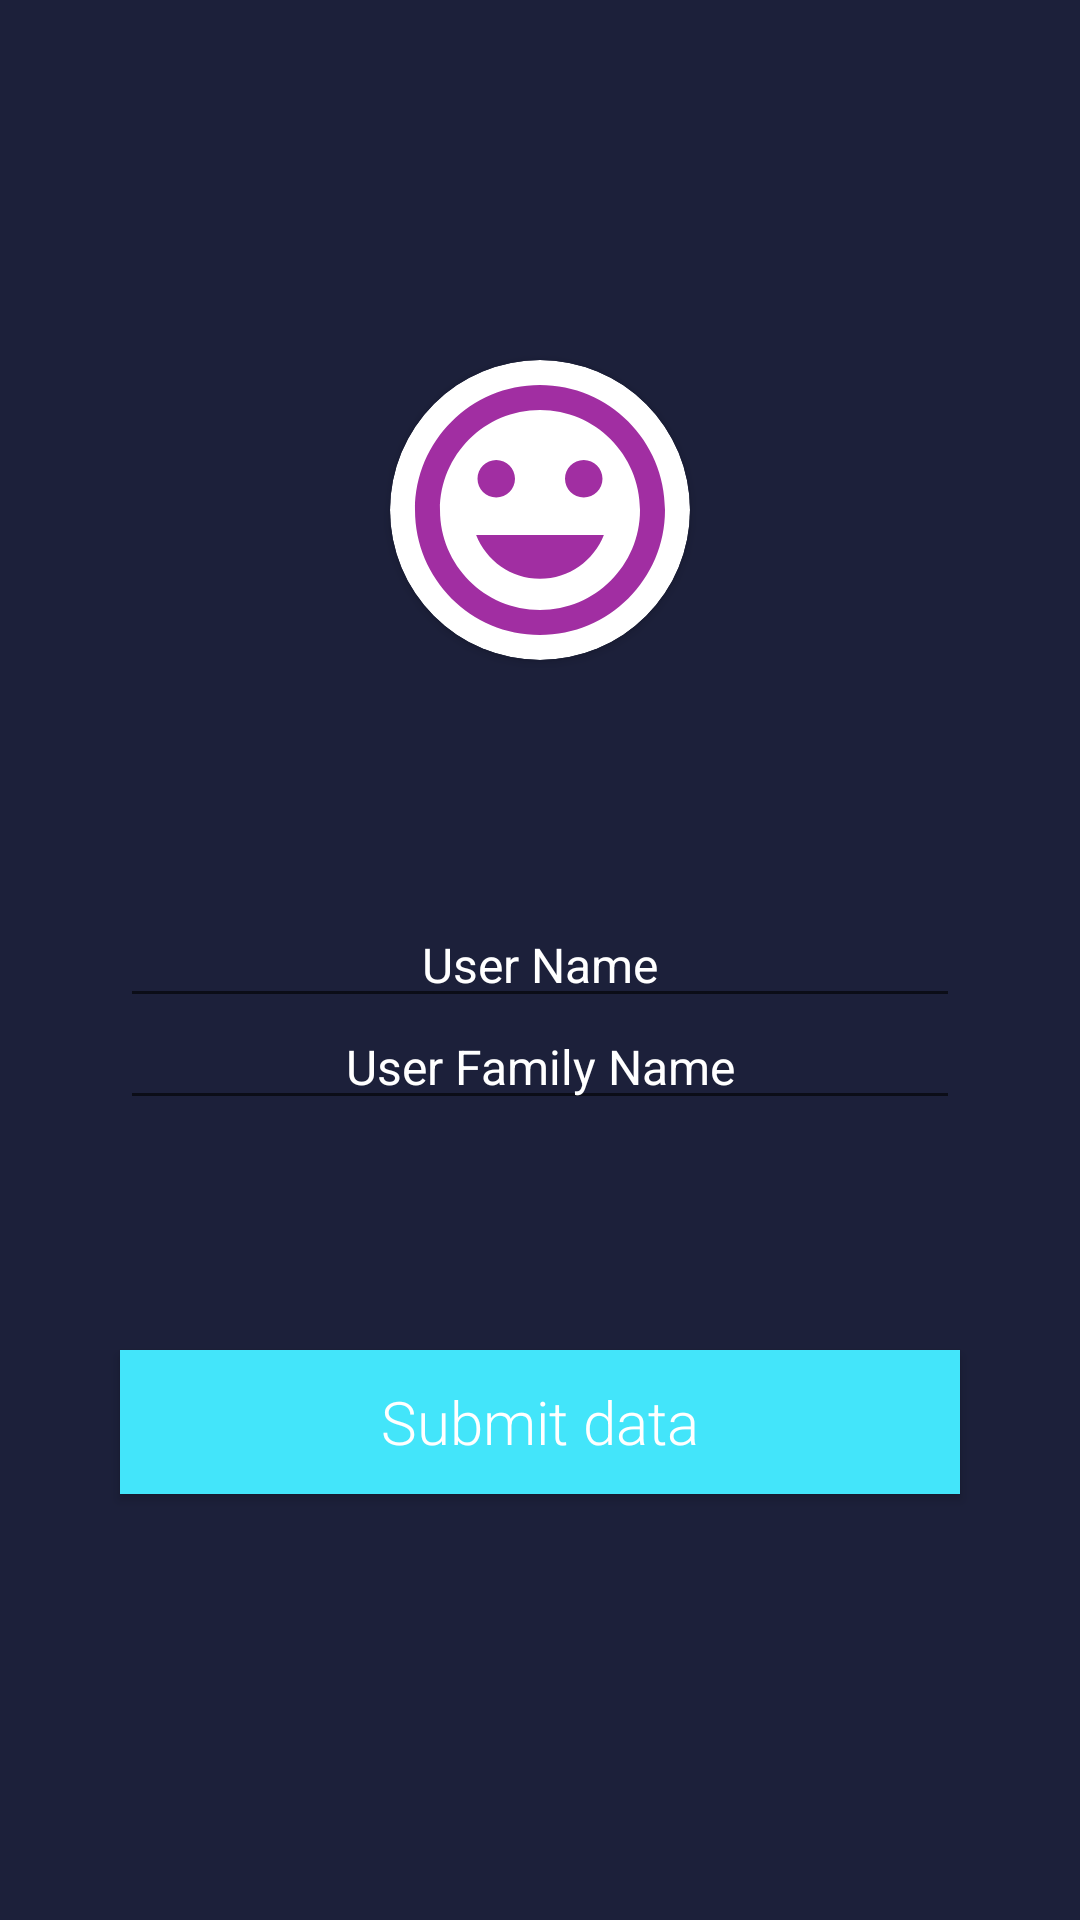

Point at icon controls on the screen. Image size 1080px×1920px, points as (x,y).
tag faces: (540,510)
